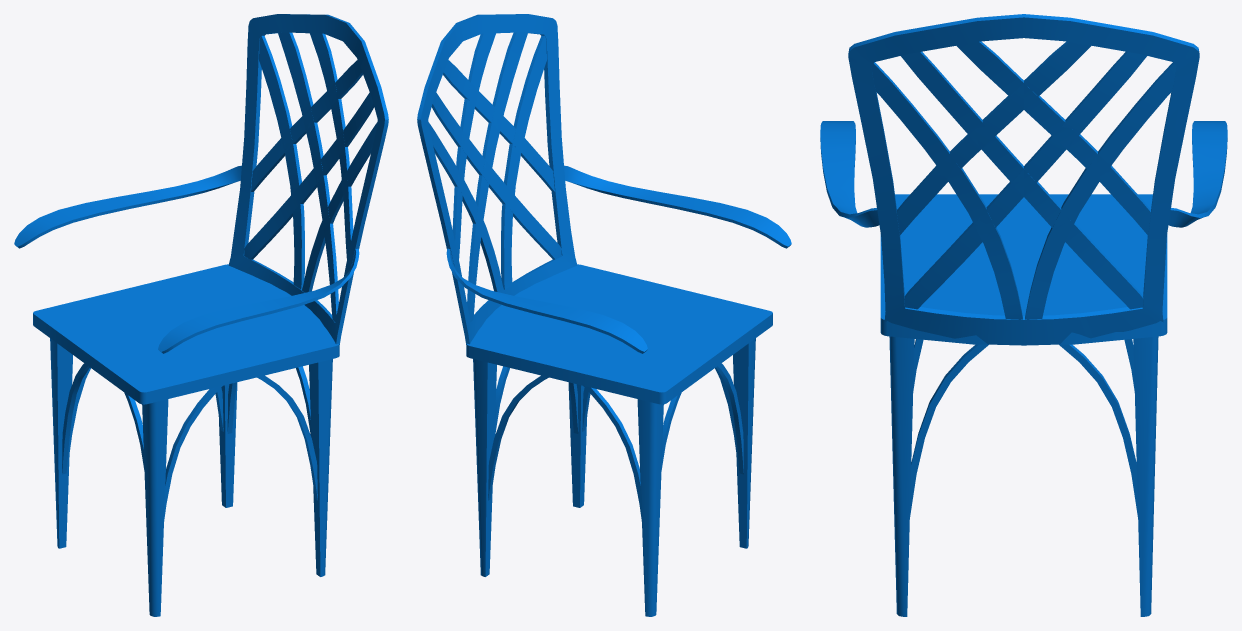
The model's file is SM_cafechair.fbx.
3 views of the same model, side by side, from view 1: azimuth 30°, elevation 25°; view 2: azimuth 150°, elevation 25°; view 3: azimuth 270°, elevation 25° (orthographic). The views are drawn at different scales.
Parts seen in each view (by area): view 1: cafe_chair; view 2: cafe_chair; view 3: cafe_chair.
Part boxes in pixels (box(x1,y1,x2,y2)): cafe_chair: box(14, 14, 388, 616); cafe_chair: box(417, 14, 791, 616); cafe_chair: box(820, 14, 1227, 616).
Size of the model in its own units: 54.75 by 99.33 by 56.79.
